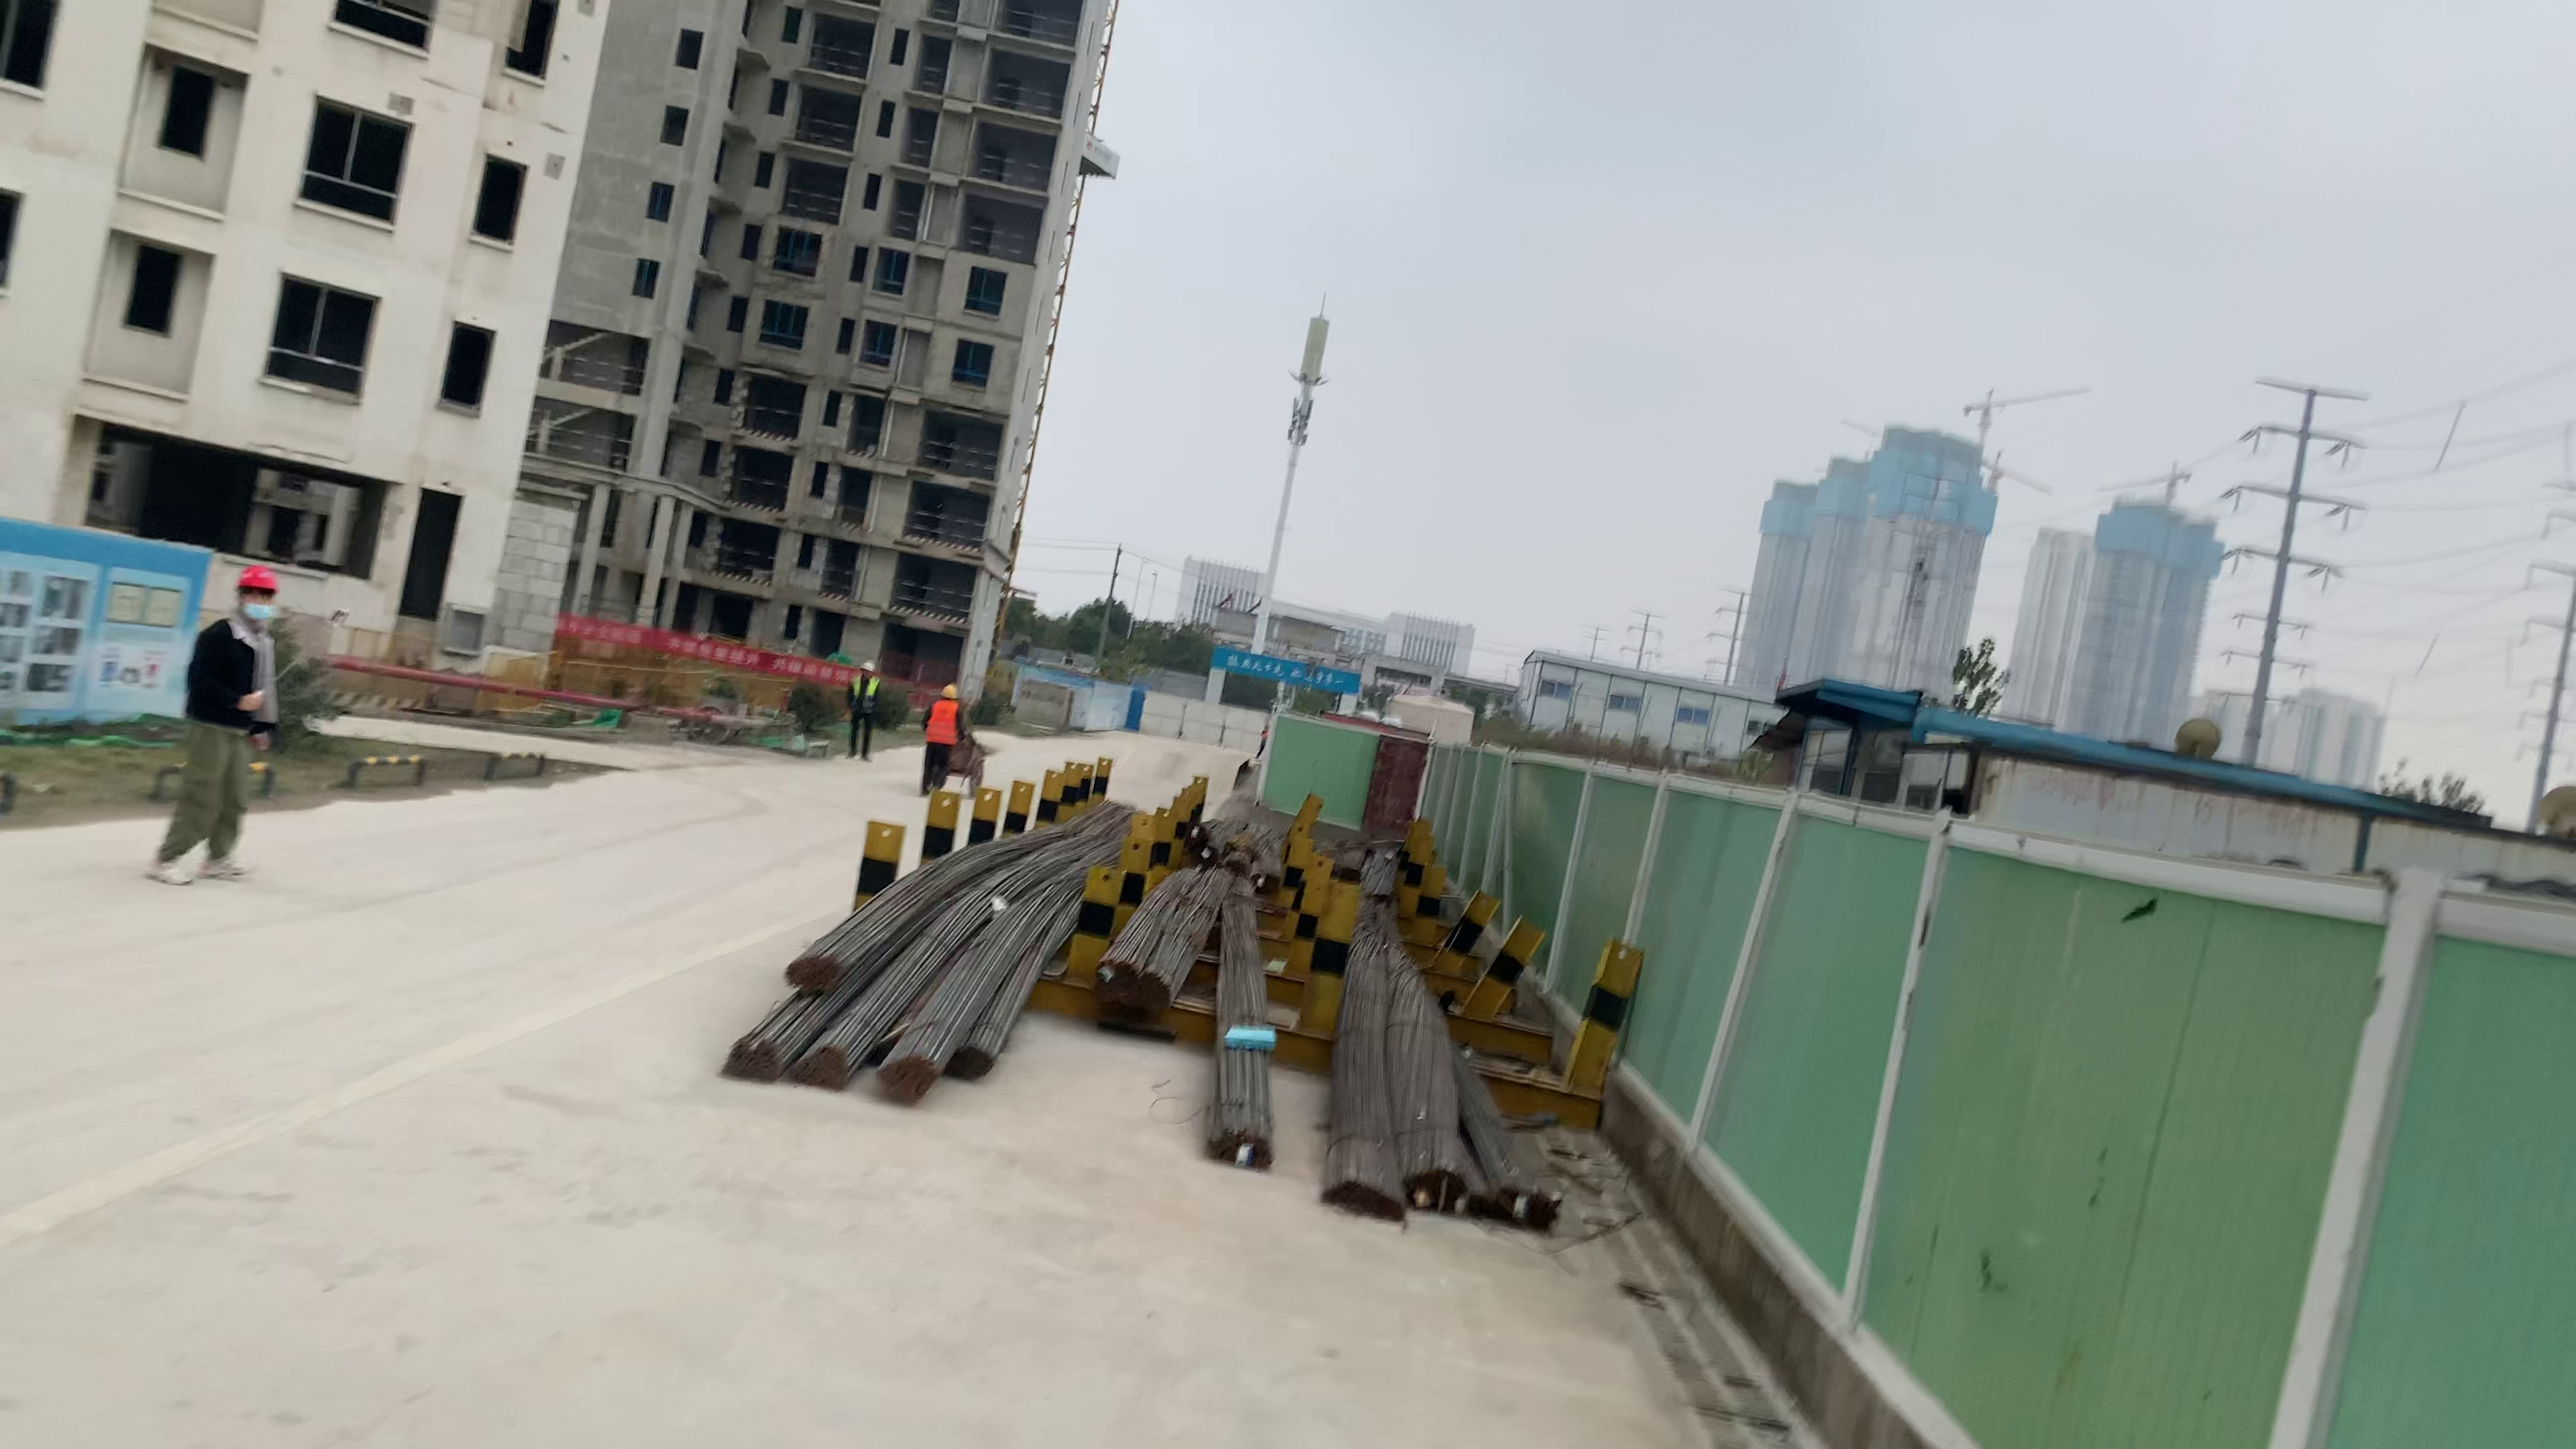rebar: (1316, 1171, 1403, 1240), (1502, 1177, 1560, 1238), (1410, 1152, 1463, 1219), (1212, 1120, 1269, 1177), (879, 1053, 939, 1099), (796, 1044, 847, 1092), (731, 1035, 780, 1077), (780, 952, 835, 989), (1138, 970, 1175, 1019), (1092, 955, 1127, 1000), (957, 1040, 989, 1083), (1470, 1187, 1499, 1223)
